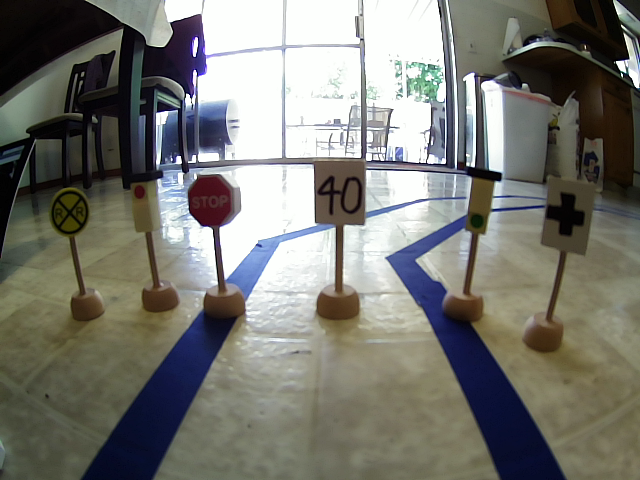40: (311, 162, 368, 226)
green: (463, 164, 503, 240)
plus: (541, 177, 595, 260)
rail: (49, 185, 91, 236)
red: (124, 172, 169, 237)
stop: (187, 174, 241, 229)
